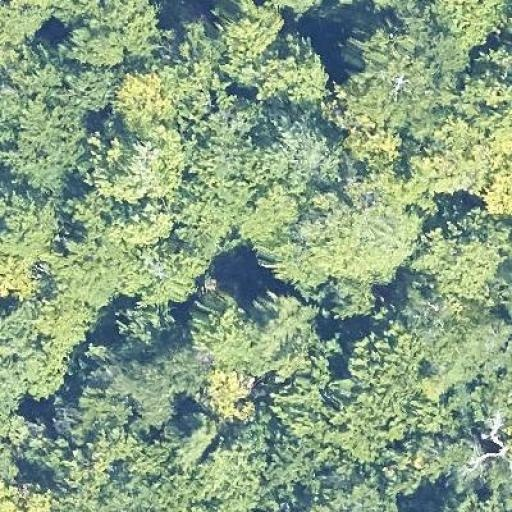tree-top: (334, 24, 451, 133), (95, 327, 214, 431), (0, 61, 100, 177), (275, 133, 369, 234), (198, 286, 302, 376), (264, 391, 413, 453), (407, 308, 508, 398), (88, 116, 188, 200), (330, 184, 416, 279), (52, 0, 162, 73), (343, 319, 435, 402), (0, 185, 61, 304), (177, 186, 283, 247), (145, 225, 226, 303), (188, 442, 278, 512), (417, 220, 497, 297), (64, 235, 150, 303), (196, 128, 278, 190), (111, 70, 183, 136), (461, 43, 512, 129), (415, 134, 480, 198), (260, 41, 325, 104), (198, 365, 265, 426), (215, 1, 287, 57), (0, 298, 34, 416), (471, 131, 512, 220), (429, 0, 504, 47), (320, 279, 376, 323)
